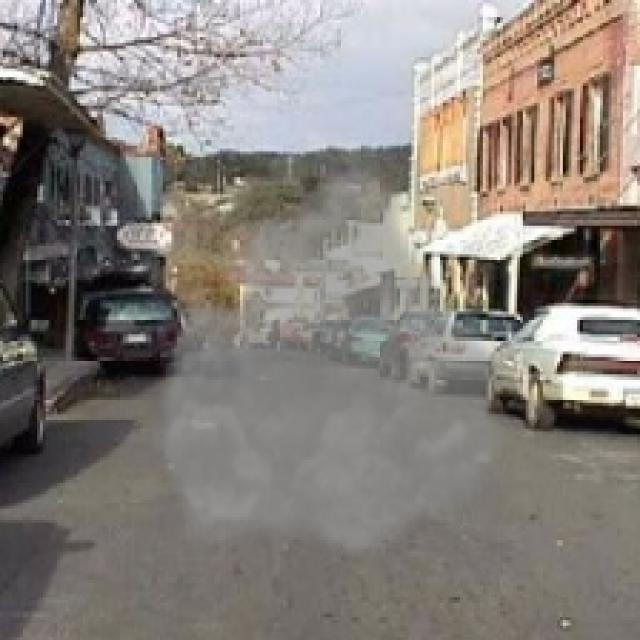Smoke: (152, 155, 514, 560)
